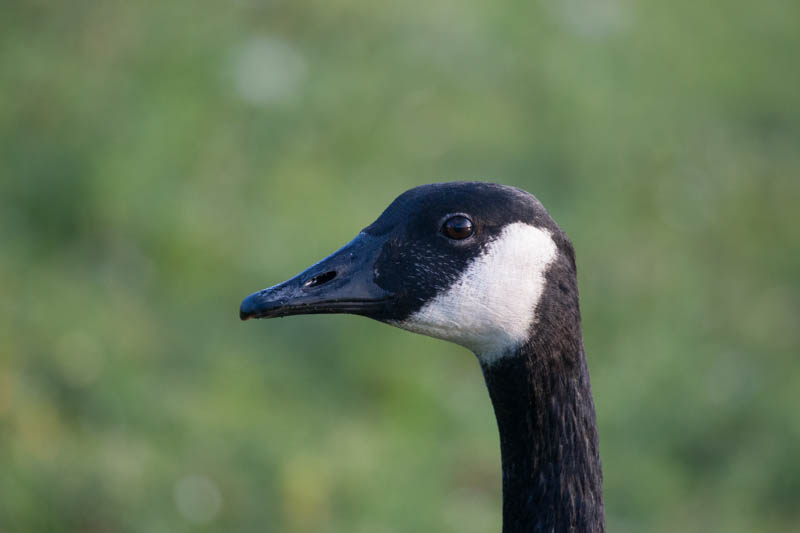goose-head: (239, 178, 580, 361)
